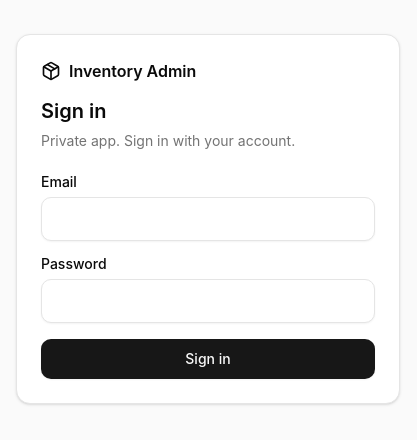
Test case: authentication flow › shows a generic message for invalid credentials
Step 1. Type "admin@example.com" into the field labelled "Email" → (208, 219), box [41,197,375,241]
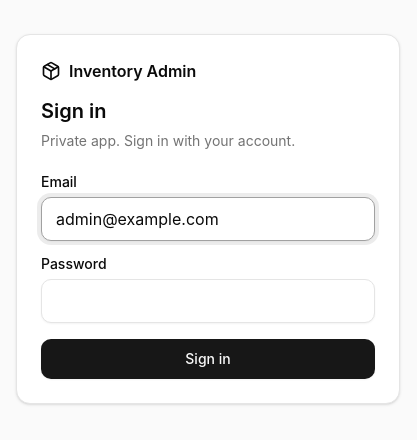
Step 2. Type "wrong" into the password field labelled "Password" → (208, 301), box [41,279,375,323]
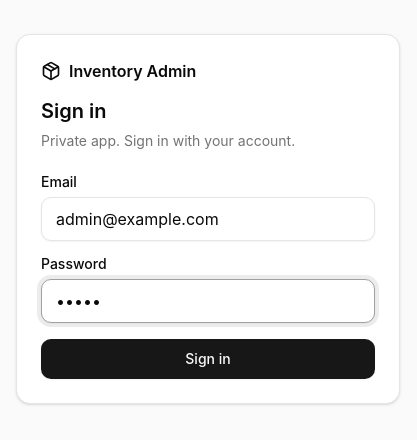
Step 3. Click the button "Sign in" → (208, 359), box [41,339,375,379]
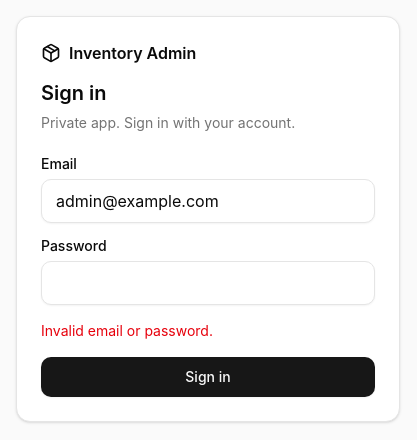
expect the message reads "Invalid email or password.": met, box [41,322,213,339]
